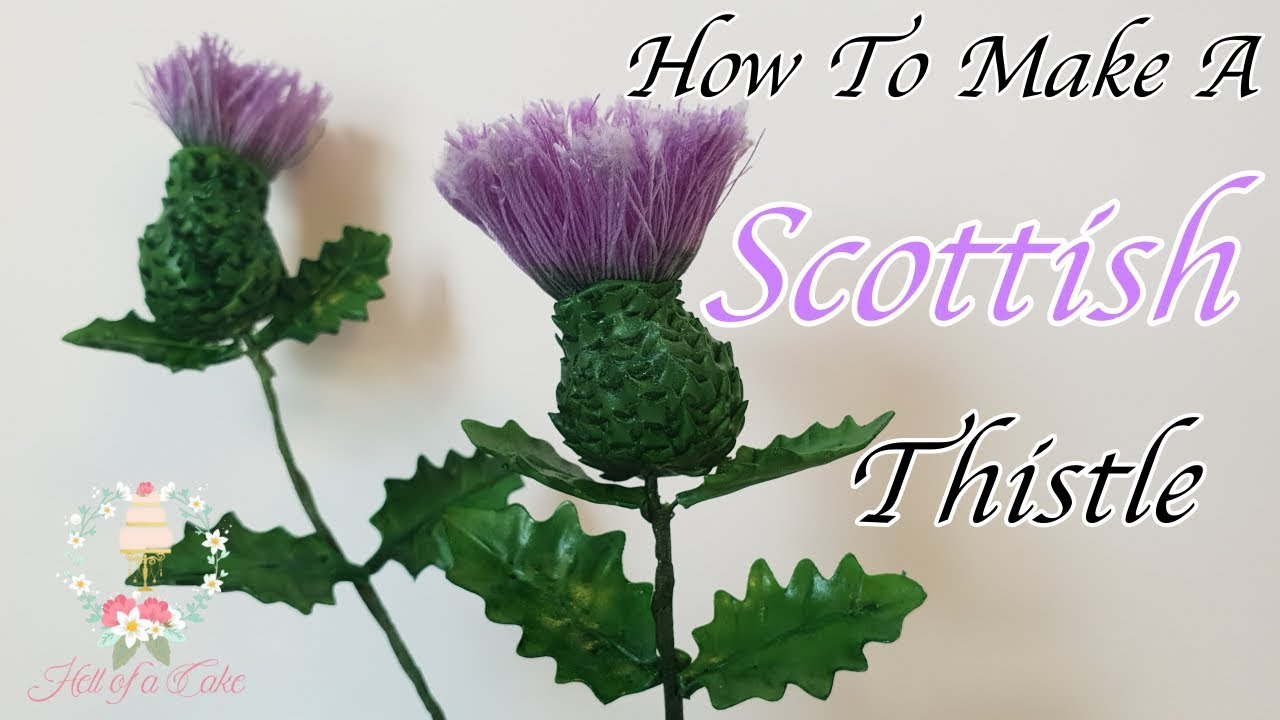thistle: (415, 99, 811, 482), (97, 36, 341, 332)
